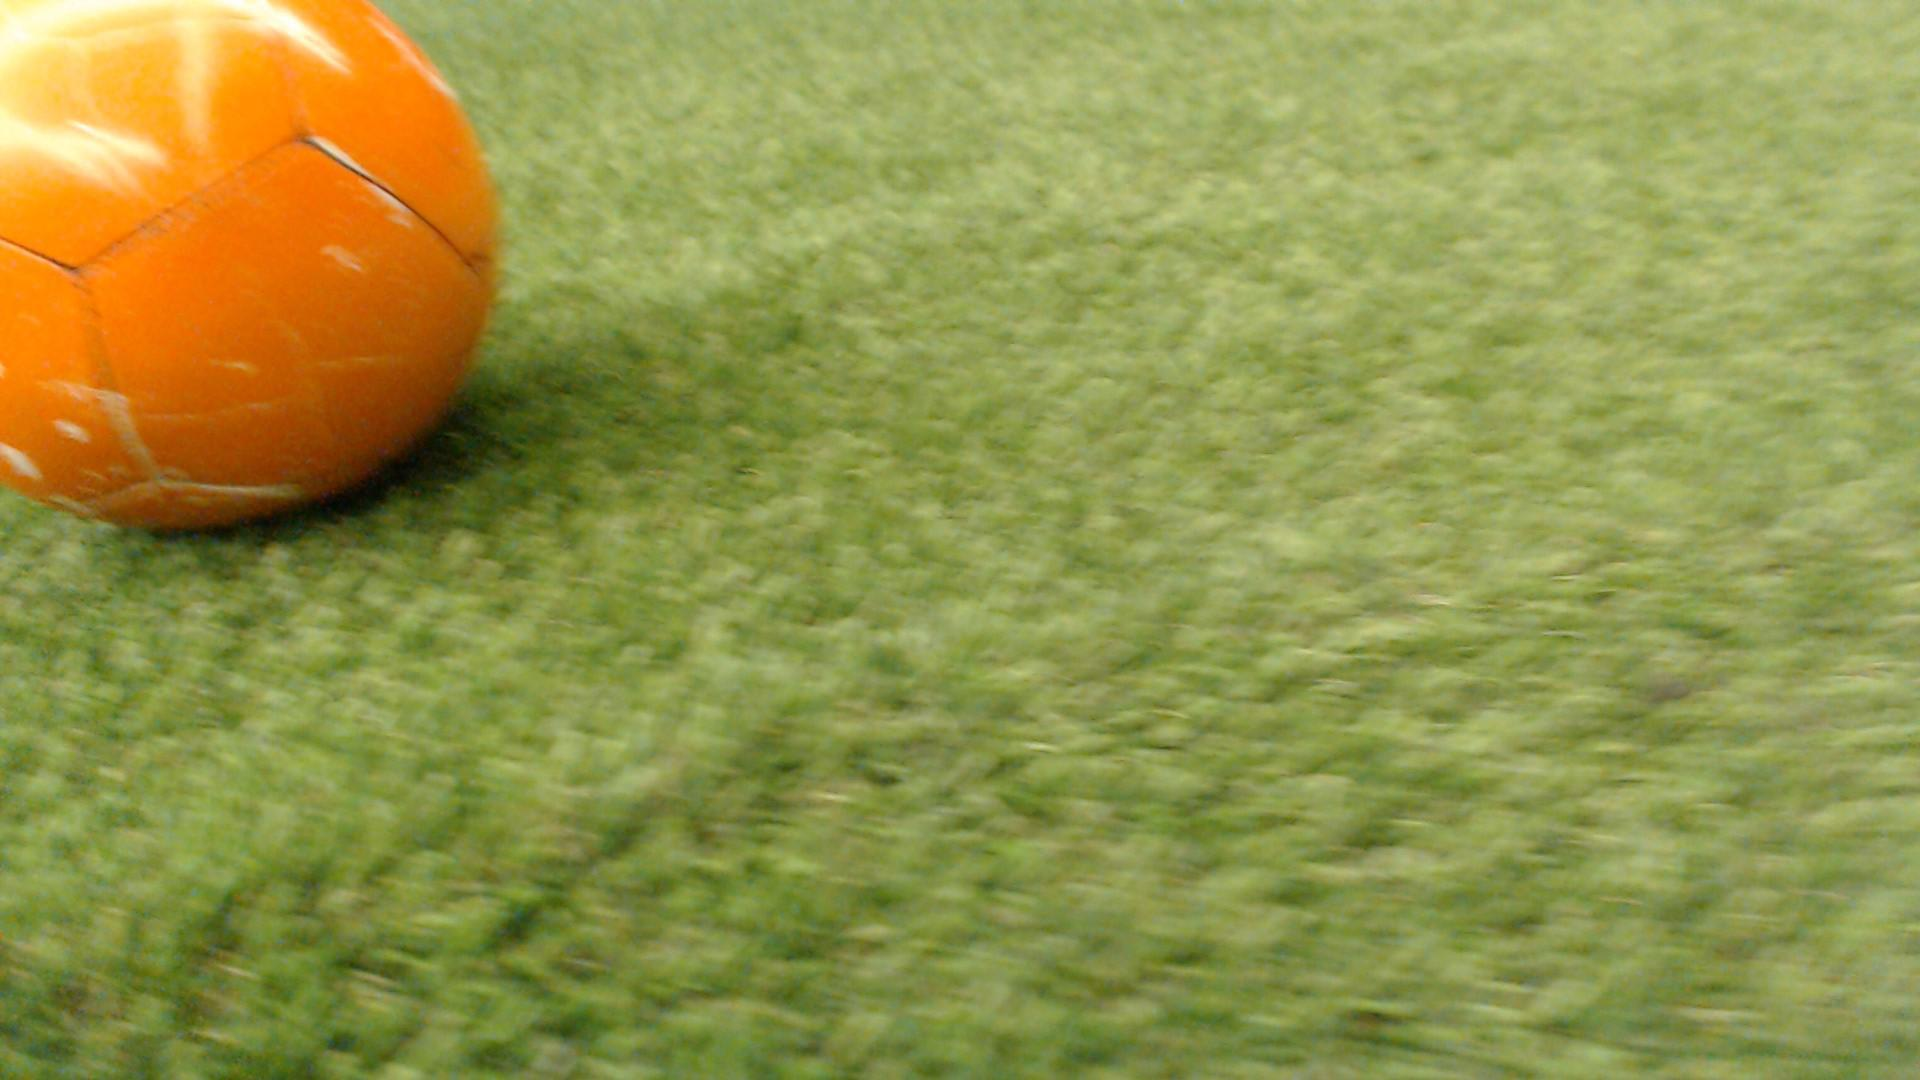bola: (0, 0, 527, 564)
